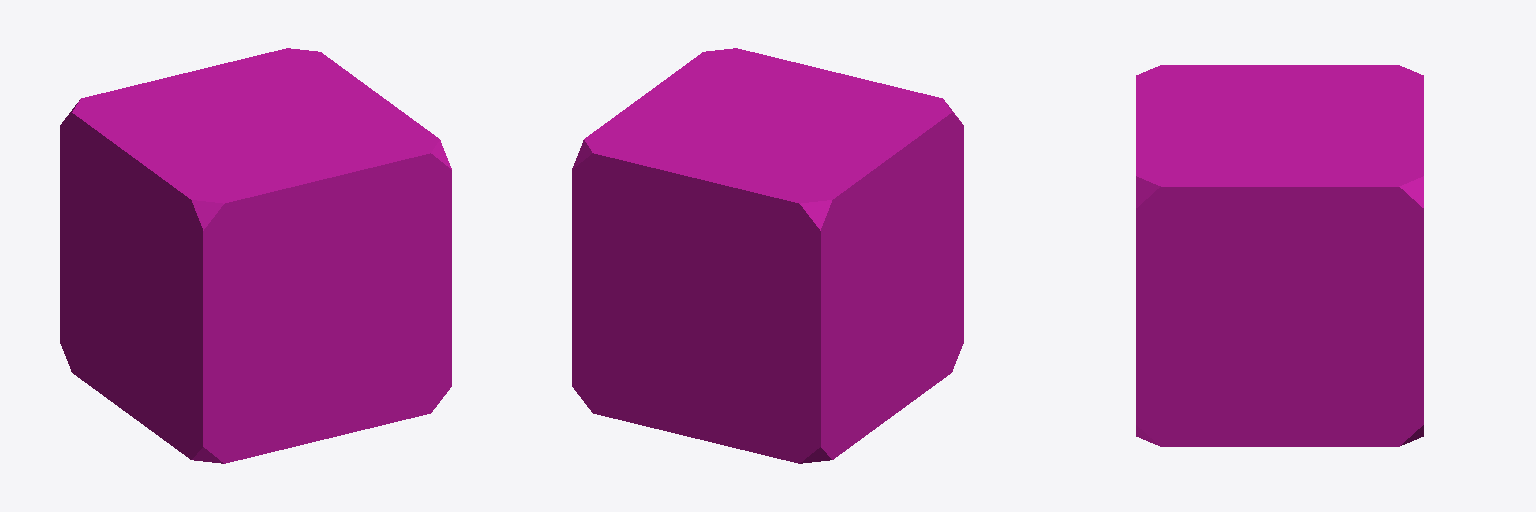
Rendered from Cube_Word_Raiders.obj.
3 renders of one model, left to right at view 1: azimuth 30°, elevation 25°; view 2: azimuth 150°, elevation 25°; view 3: azimuth 270°, elevation 25°, orthographic.
Parts seen in each view (by area): view 1: Cube_Cube.001; view 2: Cube_Cube.001; view 3: Cube_Cube.001.
Part boxes in pixels (bbox=[...]): Cube_Cube.001: bbox=[60, 48, 451, 463]; Cube_Cube.001: bbox=[572, 48, 963, 463]; Cube_Cube.001: bbox=[1136, 65, 1423, 446].
Size of the model in its own units: 2 by 2 by 2.